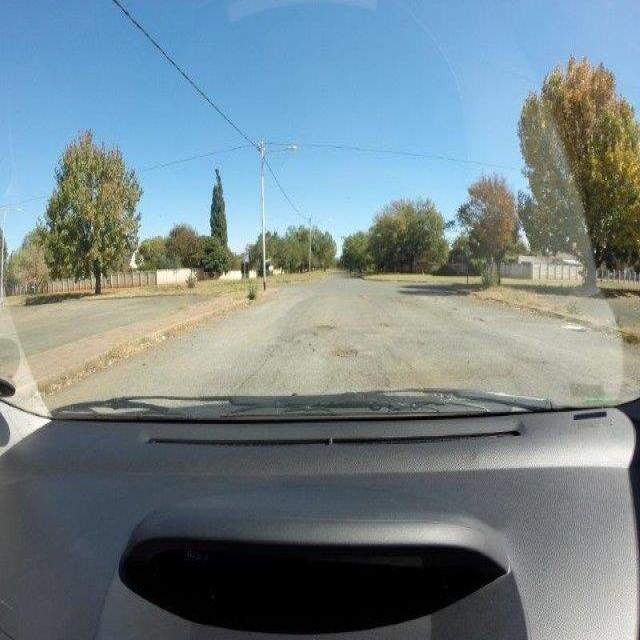lubang: (305, 319, 337, 336), (333, 345, 361, 364)
